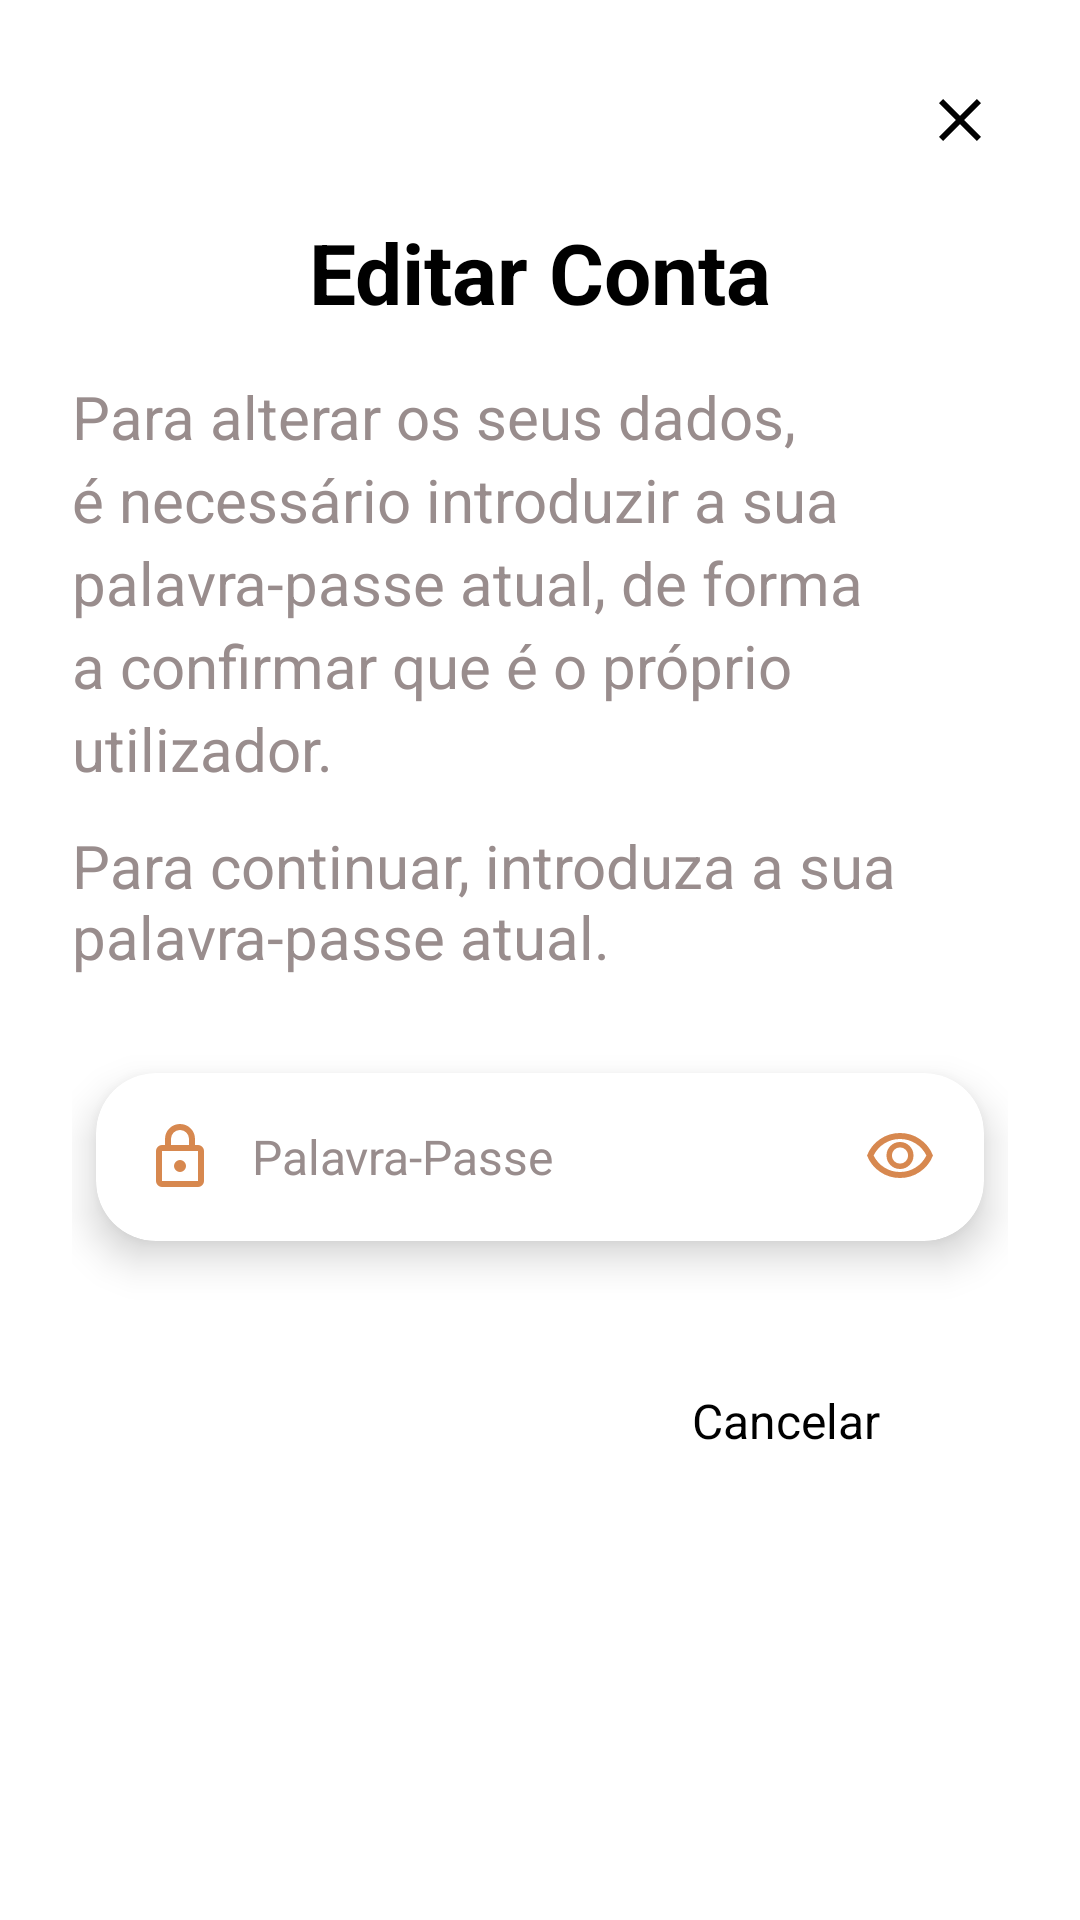

Named icons in this screenshot (1080×1920) and their centers, [x,y]:
close: [960,120]
lock: [180,1155]
Toggle password visibility: [900,1155]
